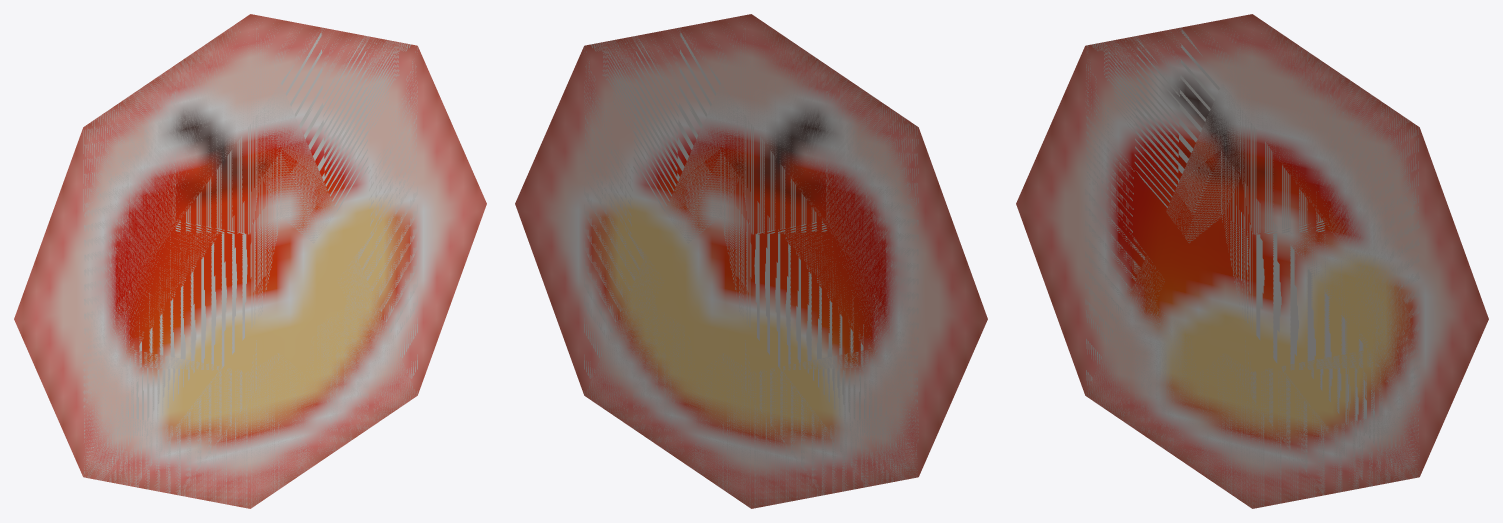
File: jsf_Flyer_AppleCandy_09.fbx
The picture shows the model from 3 angles, left to right: view 1: azimuth 30°, elevation 25°; view 2: azimuth 150°, elevation 25°; view 3: azimuth 330°, elevation 25°; orthographic projection.
Parts seen in each view (by area): view 1: jsf_Flyer_AppleCandy_09; view 2: jsf_Flyer_AppleCandy_09; view 3: jsf_Flyer_AppleCandy_09.
Part boxes in pixels (left/top/right/bottom): jsf_Flyer_AppleCandy_09: left=14, top=14, right=486, bottom=508; jsf_Flyer_AppleCandy_09: left=515, top=14, right=987, bottom=508; jsf_Flyer_AppleCandy_09: left=1016, top=14, right=1488, bottom=508.
Bounding box in the file's own units: 19.41 × 19.41 × 0.
